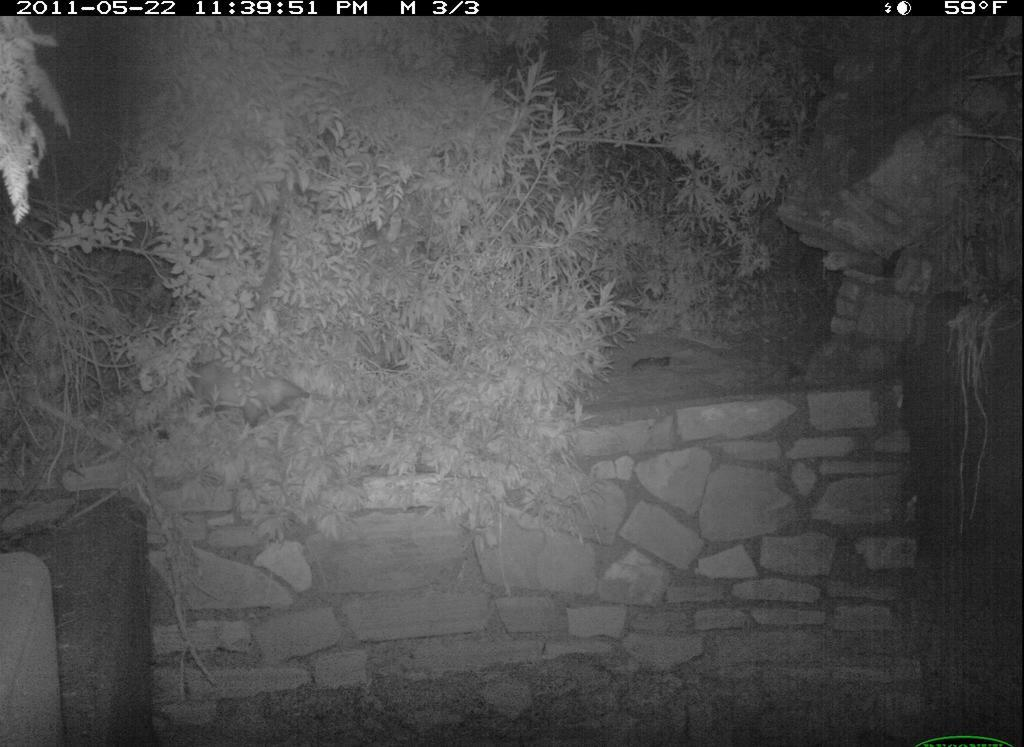opossum: (176, 351, 345, 438)
